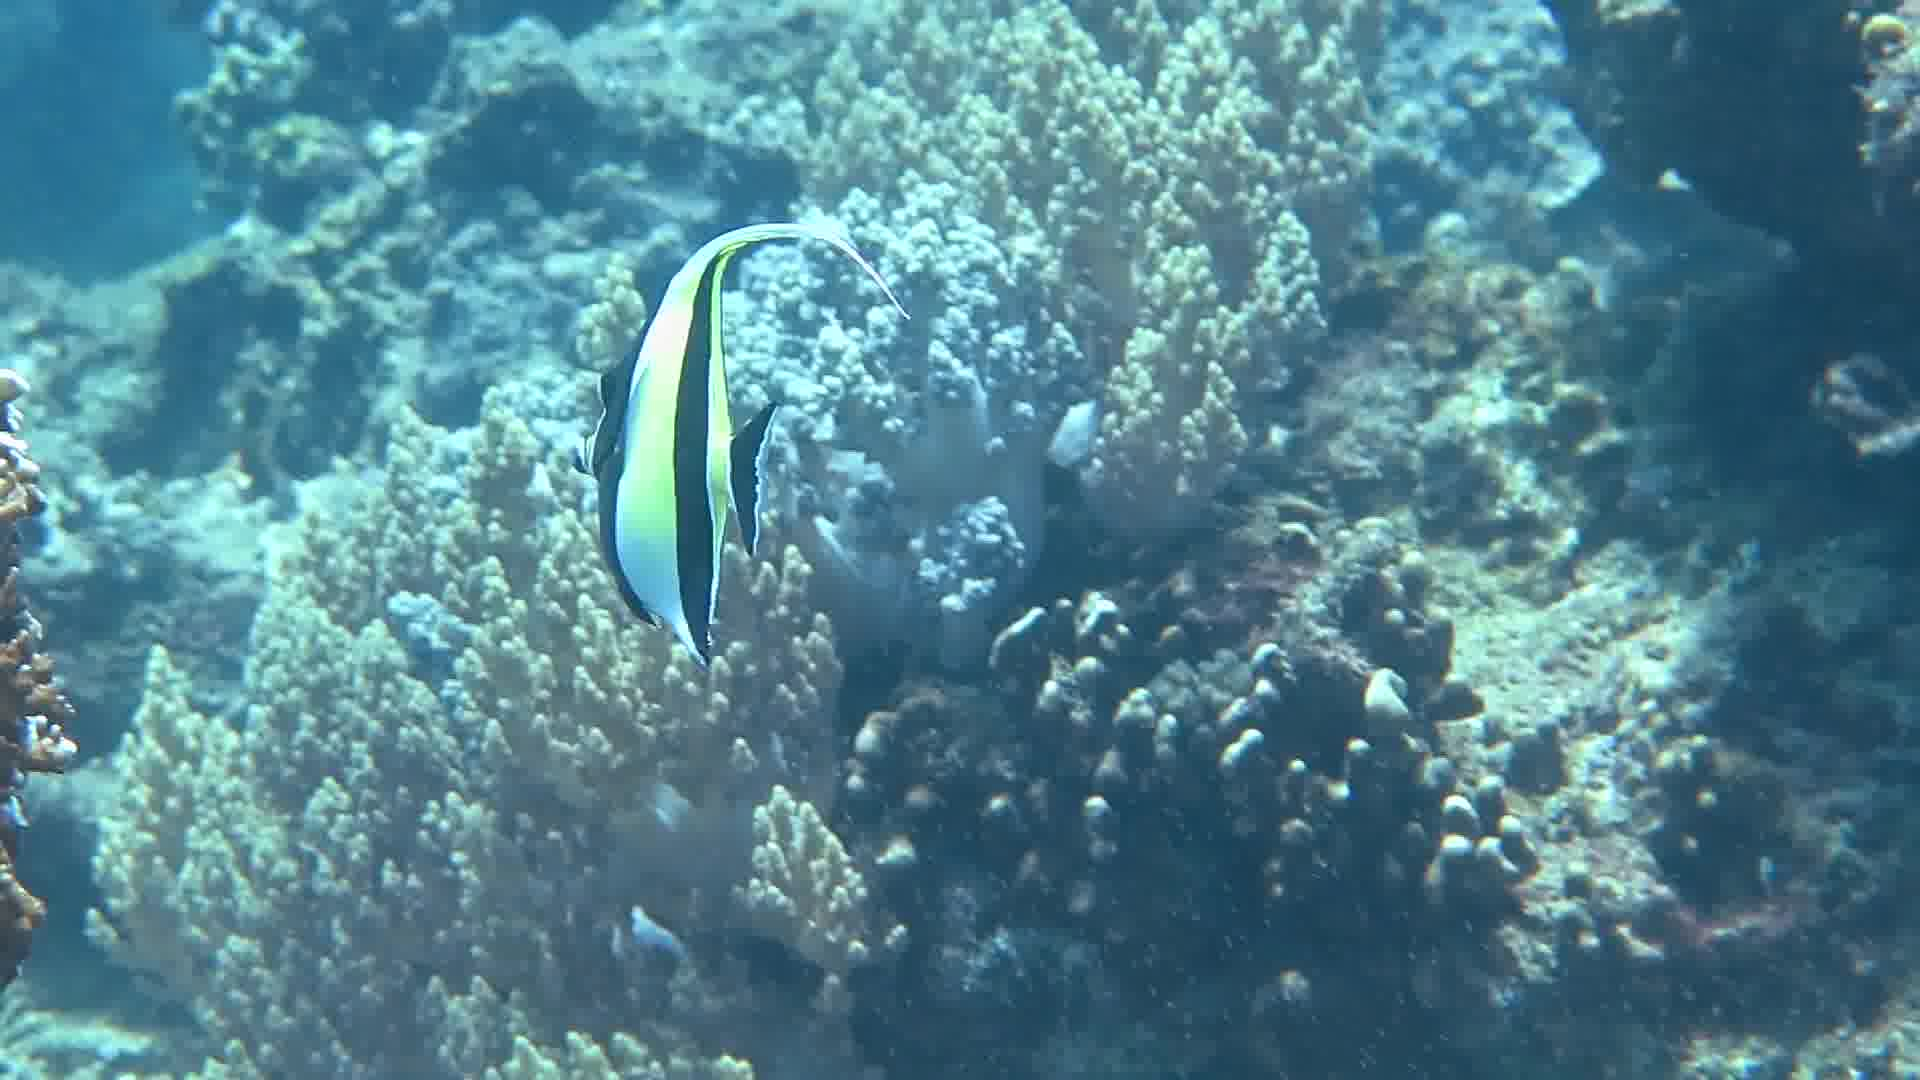Zanclus cornutus: (546, 185, 804, 737)
